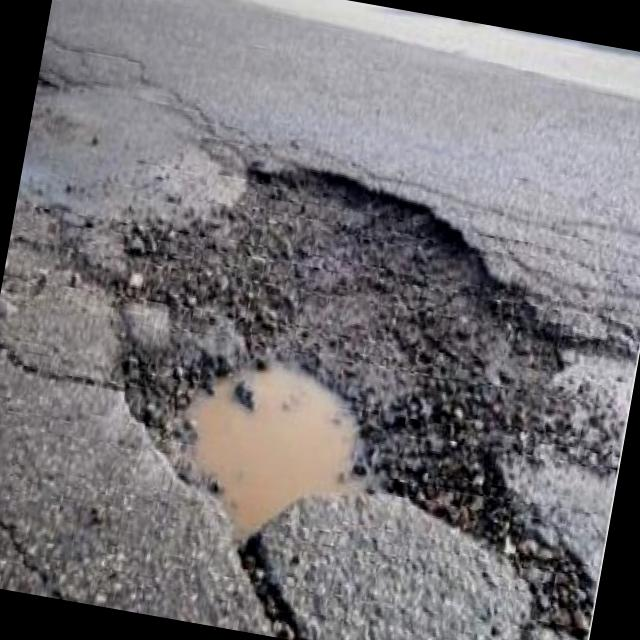Lubang: (104, 155, 579, 549)
